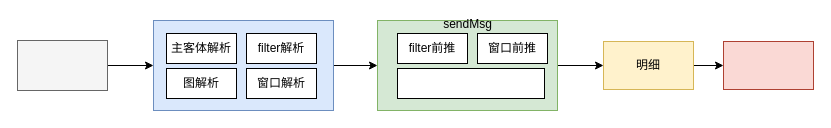
Some shapes in this 831 by 128 pixel diagram are drawn without their labels. The box of each missing label's shape, as (x1, y1, x2, y2) in pixels:
message构造: (396, 68, 544, 98)
协议: (16, 40, 108, 90)
累积&结果: (722, 40, 814, 90)
